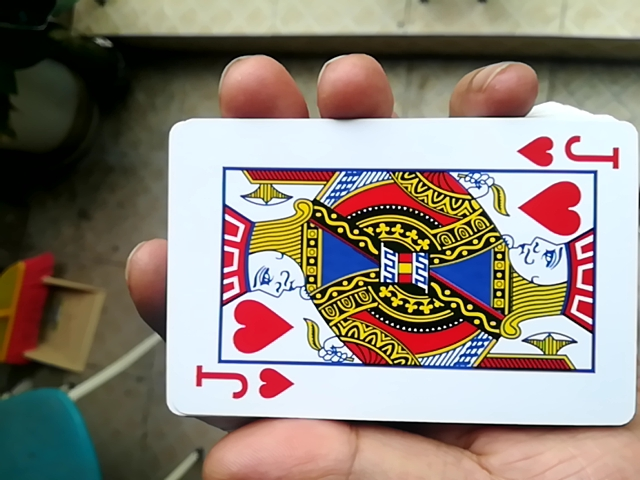hx j: (145, 111, 636, 433)
